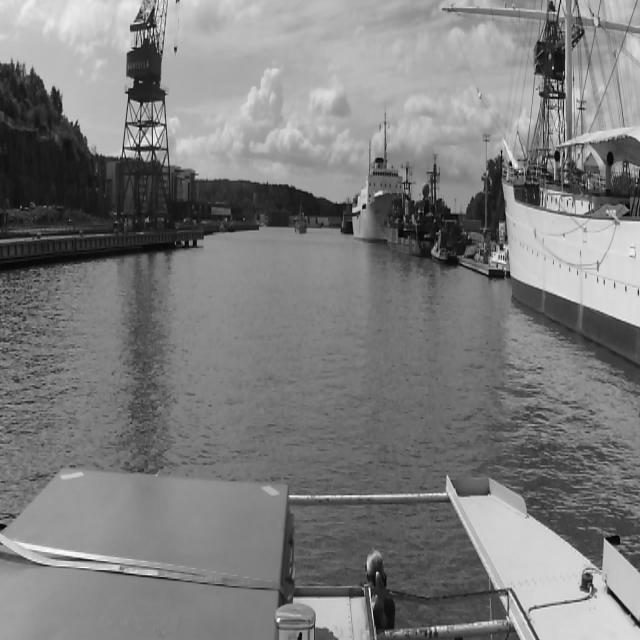ship: (442, 2, 634, 364), (384, 164, 427, 256), (352, 160, 394, 250), (430, 231, 458, 264), (489, 236, 513, 268), (341, 206, 353, 235), (474, 247, 488, 263), (295, 217, 306, 234)
